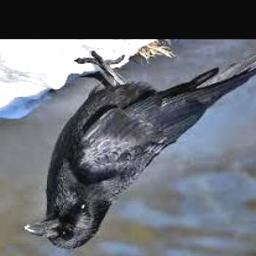Crow: (25, 47, 256, 250)
